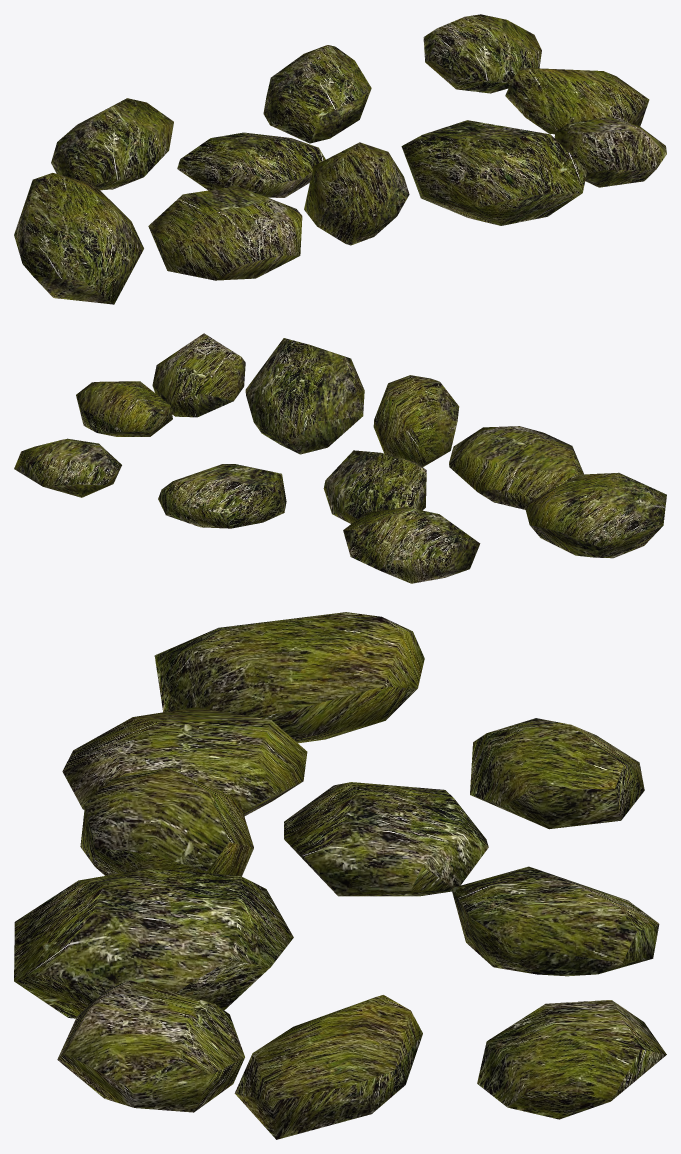
The model's file is KM_VOB_RIVER_ROCKS_04_2.glb.
3 views of the same model, one above another, from view 1: azimuth 30°, elevation 25°; view 2: azimuth 150°, elevation 25°; view 3: azimuth 270°, elevation 25° (orthographic). The views are drawn at different scales.
Visible parts, largest first — view 1: Mesh; view 2: Mesh; view 3: Mesh.
Part boxes in pixels (<box>): Mesh: <box>14,14,666,304</box>; Mesh: <box>14,333,666,583</box>; Mesh: <box>14,612,666,1139</box>.
Size of the model in its own units: 1.31 by 0.1933 by 0.7643.
1 material, 1 textured.
